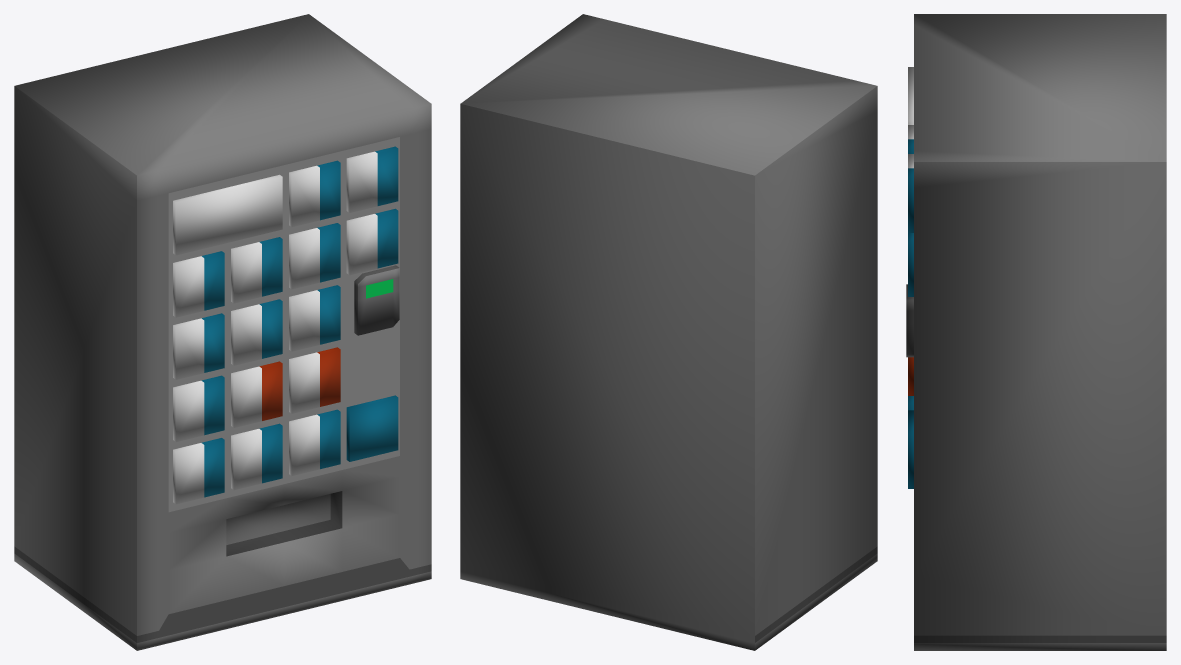
The picture shows the model from 3 angles, left to right: view 1: azimuth 30°, elevation 25°; view 2: azimuth 150°, elevation 25°; view 3: azimuth 270°, elevation 25°; orthographic projection. The views are drawn at different scales.
Parts seen in each view (by area): view 1: alt1.014; view 2: alt1.014; view 3: alt1.014.
Boxes of the visible parts, x1,y1,x2,y2 form: alt1.014: (14, 14, 431, 650); alt1.014: (460, 14, 877, 650); alt1.014: (906, 14, 1166, 650).
Size of the model in its own units: 0.3242 by 0.5 by 0.241.
